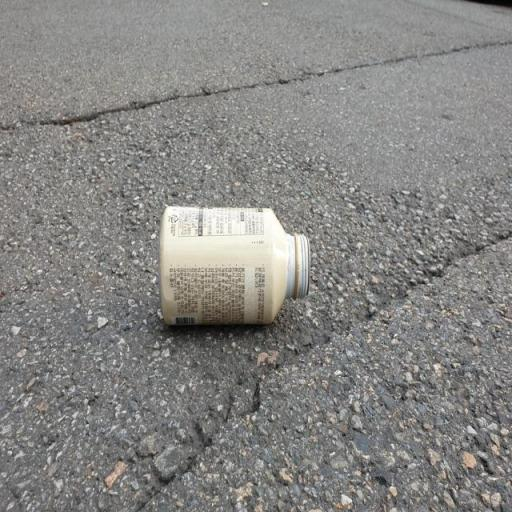metal: (152, 190, 327, 351)
